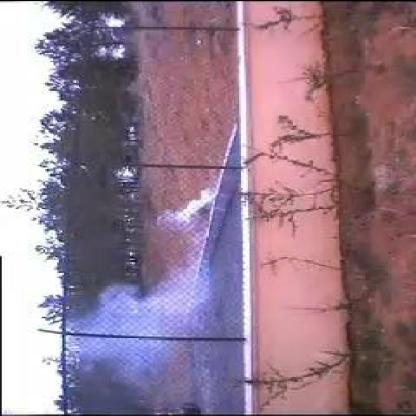-: (82, 189, 222, 335)
